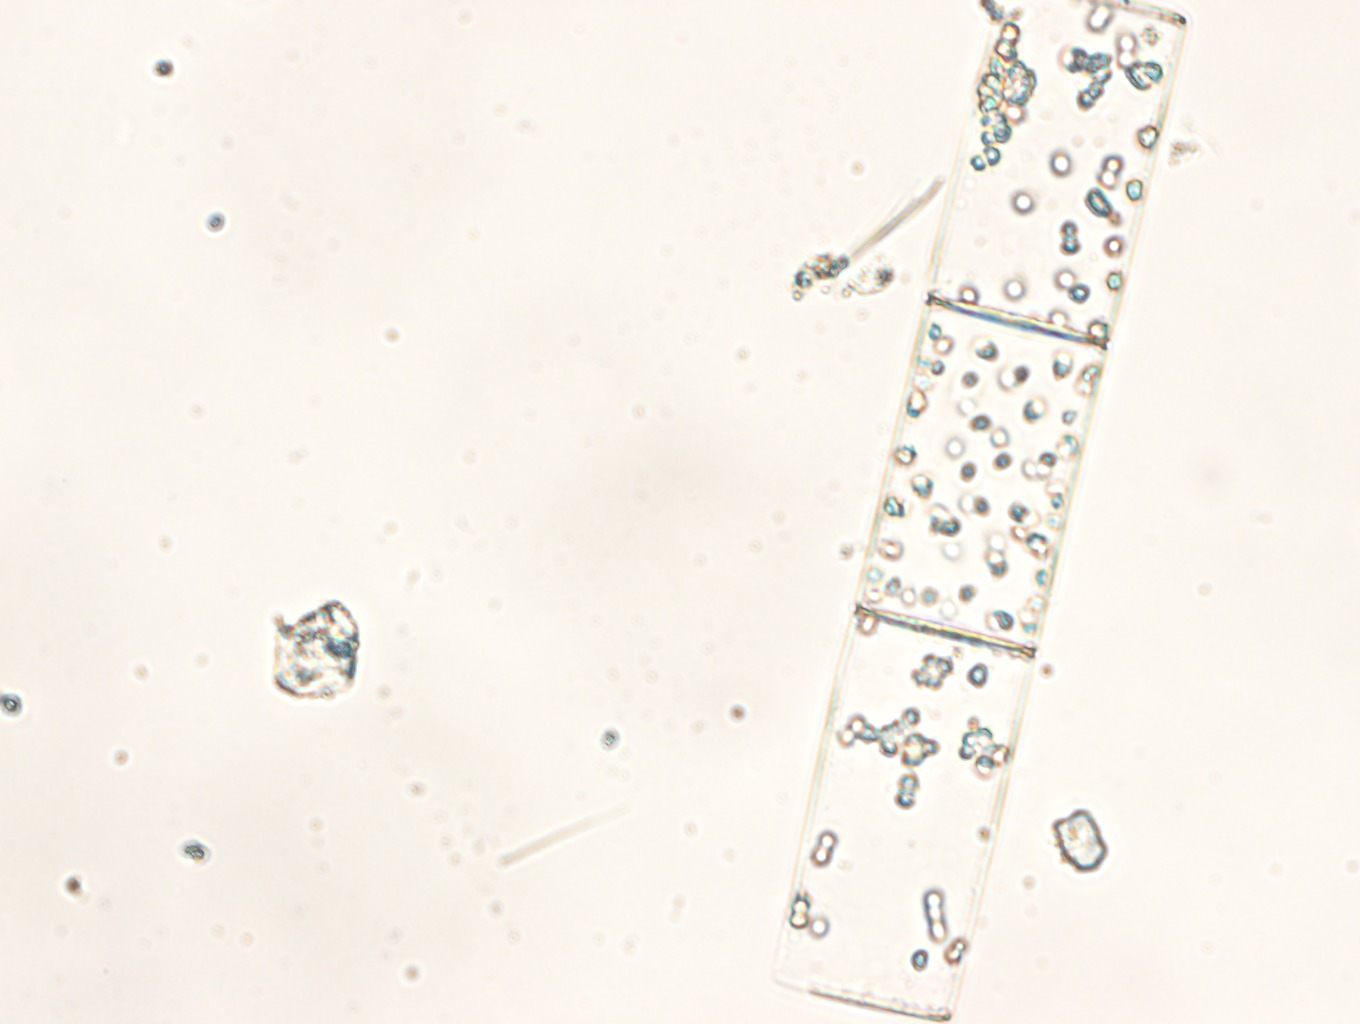guinardia flaccida: (770, 1, 1187, 1024)
